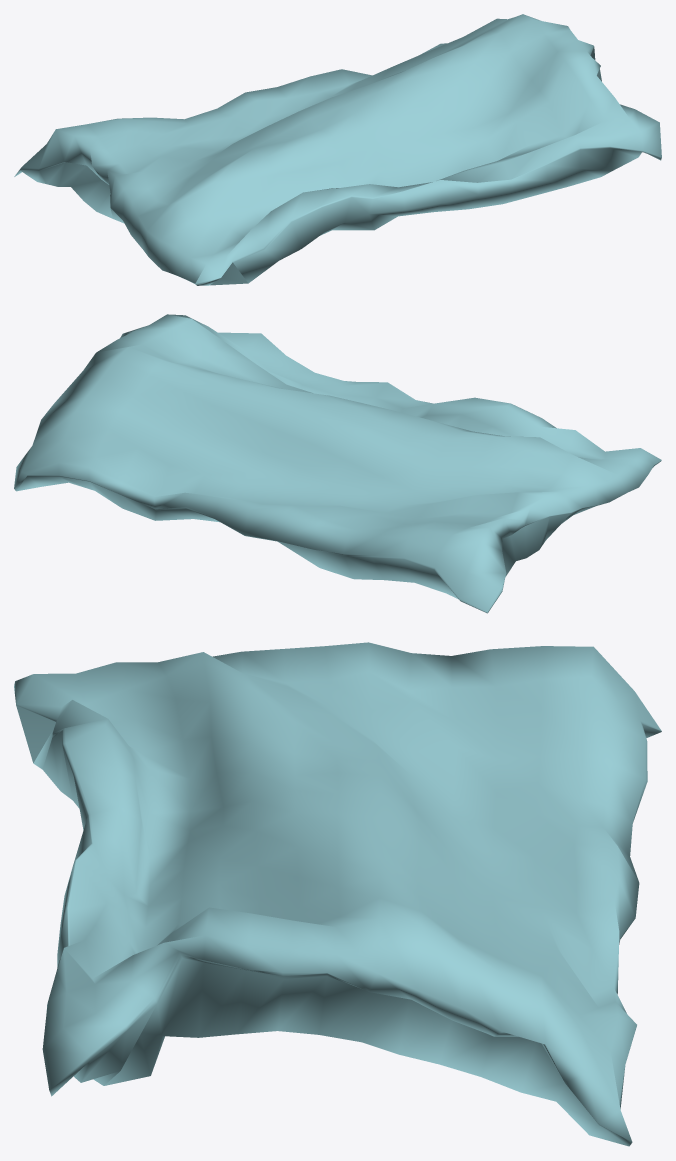
Rendered from Breath.FBX.
3 views of the same model, one above another, from view 1: azimuth 30°, elevation 25°; view 2: azimuth 150°, elevation 25°; view 3: azimuth 270°, elevation 25° (orthographic). The views are drawn at different scales.
Visible parts, largest first — view 1: Plane010; view 2: Plane010; view 3: Plane010.
Boxes of the visible parts, <box> form: Plane010: <box>14,14,661,285</box>; Plane010: <box>14,314,661,613</box>; Plane010: <box>14,642,661,1146</box>.
Bounding box in the file's own units: 169 × 38.07 × 106.
